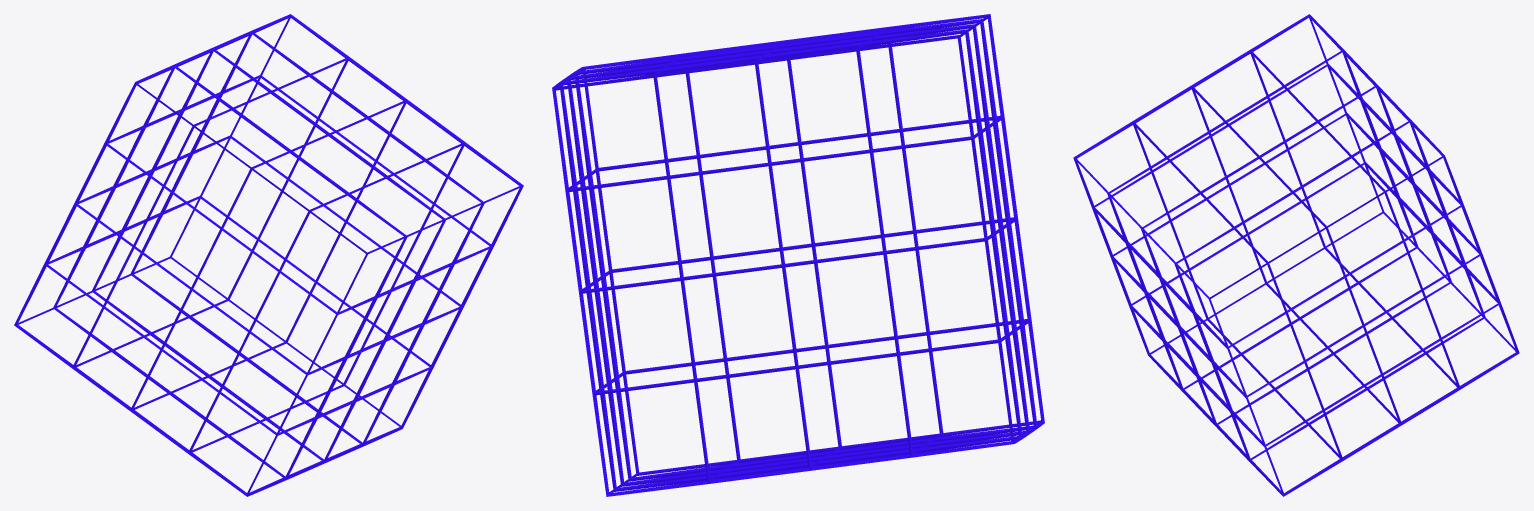
The model's file is cubo-asd.glb.
The picture shows the model from 3 angles, left to right: view 1: azimuth 30°, elevation 25°; view 2: azimuth 150°, elevation 25°; view 3: azimuth 270°, elevation 25°; orthographic projection. The views are drawn at different scales.
Visible parts, largest first — view 1: Cube; view 2: Cube; view 3: Cube.
Part boxes in pixels (<box>): Cube: <box>14,14,523,496</box>; Cube: <box>552,14,1044,496</box>; Cube: <box>1073,14,1519,496</box>.
Size of the model in its own units: 3.16 by 2.9 by 3.18.
